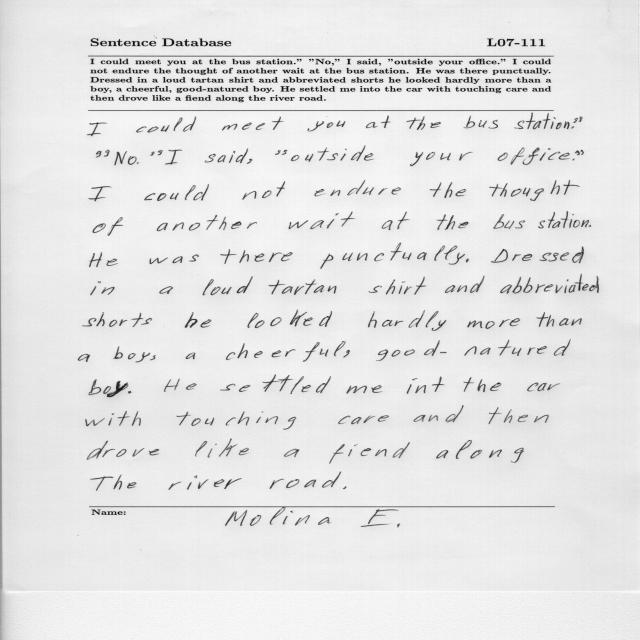word: (376, 339, 571, 361), (320, 243, 465, 269), (226, 341, 346, 362), (177, 412, 297, 430), (220, 375, 331, 394), (436, 440, 524, 463), (500, 274, 599, 294), (489, 180, 580, 201), (329, 442, 410, 464), (368, 310, 446, 331), (157, 215, 257, 231), (491, 247, 584, 264), (248, 310, 332, 328), (314, 180, 401, 197), (88, 440, 160, 460), (291, 145, 374, 162), (498, 147, 570, 165), (270, 472, 342, 489), (289, 212, 355, 229), (168, 475, 242, 490), (144, 184, 209, 201), (220, 249, 293, 264), (269, 279, 336, 295), (369, 277, 427, 295), (488, 408, 549, 425), (83, 312, 152, 327), (195, 439, 249, 458), (136, 117, 196, 133), (203, 277, 253, 296), (538, 211, 589, 229), (410, 152, 473, 166), (515, 113, 570, 129), (414, 406, 464, 423), (85, 411, 141, 426), (242, 181, 285, 200), (222, 117, 283, 130), (91, 475, 137, 491), (89, 380, 128, 398), (536, 312, 582, 327), (445, 276, 485, 293), (205, 149, 248, 164), (407, 377, 444, 394), (113, 346, 150, 362), (467, 318, 520, 329), (430, 183, 466, 199), (93, 217, 123, 236), (464, 377, 501, 392), (437, 214, 469, 230), (150, 255, 199, 265), (382, 212, 409, 230), (493, 214, 525, 229), (407, 116, 441, 130), (338, 415, 389, 424), (464, 116, 499, 129), (185, 312, 212, 328), (90, 252, 118, 267), (308, 121, 346, 132), (164, 379, 196, 392), (115, 152, 140, 166), (91, 282, 115, 296), (89, 186, 111, 201), (366, 116, 391, 129), (346, 385, 382, 394), (527, 383, 560, 392), (87, 123, 107, 136), (165, 150, 182, 165), (284, 449, 299, 457), (96, 150, 110, 158), (159, 286, 173, 294), (78, 354, 90, 362), (571, 118, 578, 129), (186, 353, 196, 360), (275, 150, 287, 155), (343, 350, 350, 357), (575, 150, 584, 155), (247, 159, 253, 164), (150, 355, 156, 360), (158, 150, 163, 155), (579, 117, 583, 122), (151, 152, 155, 156), (466, 259, 469, 263), (343, 486, 347, 489), (128, 391, 132, 393), (572, 159, 575, 161), (589, 225, 591, 227)
